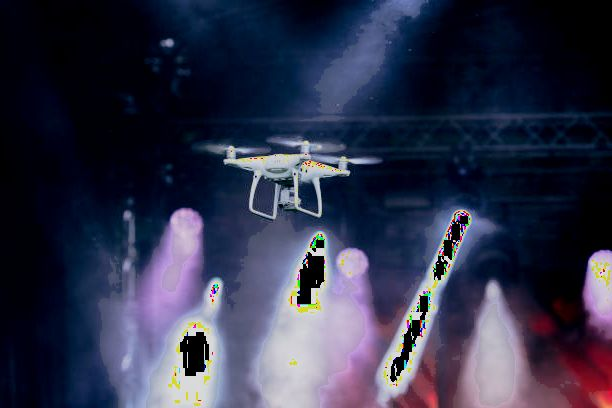Drone: (198, 130, 381, 223)
